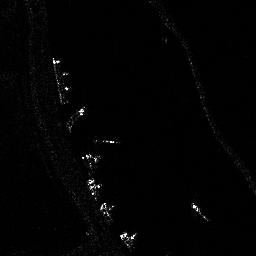ship: (189, 200, 213, 225)
